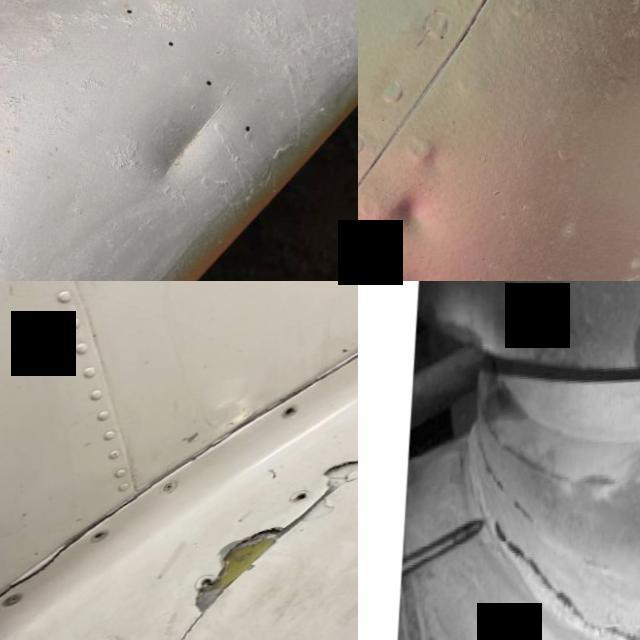Crack: (491, 513, 640, 640), (197, 530, 300, 623), (476, 416, 539, 528), (9, 544, 77, 594), (323, 464, 358, 501)
Dent: (116, 82, 256, 222), (359, 168, 478, 272)
Missing_Fastener: (92, 533, 120, 550), (280, 412, 306, 426), (297, 492, 316, 511)
